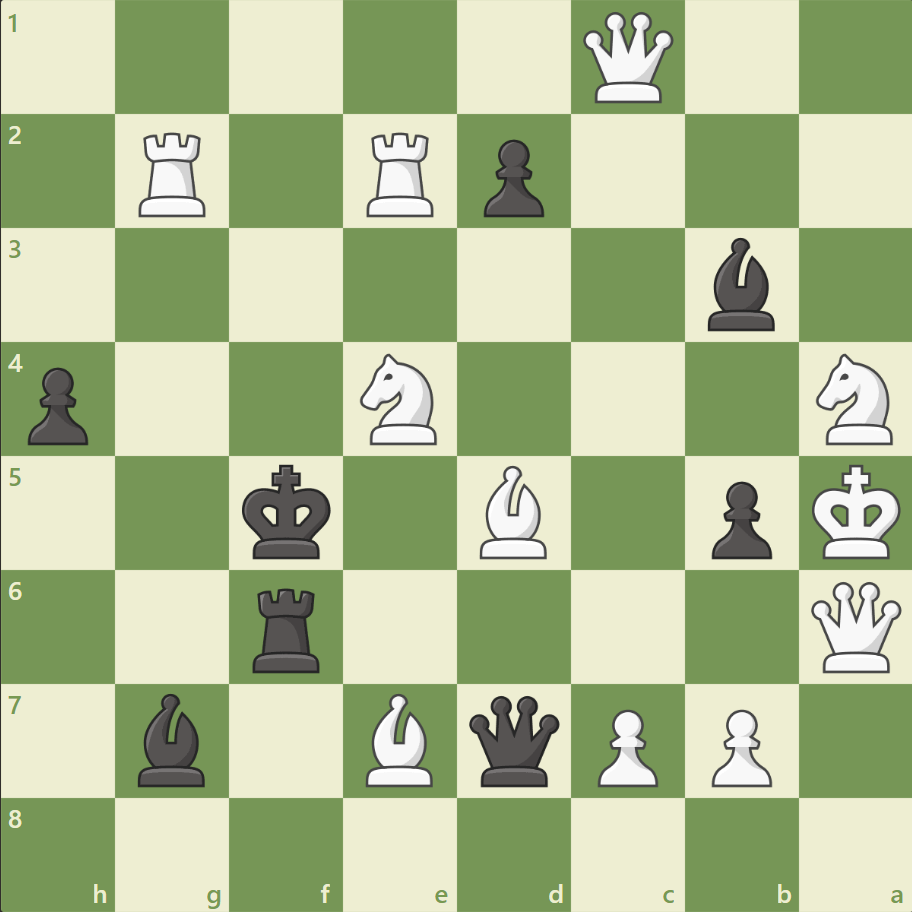B: (358, 687, 442, 790), (471, 460, 555, 563)
K: (806, 458, 906, 566)
N: (351, 348, 449, 450), (806, 348, 903, 450)
P: (701, 700, 776, 791), (588, 700, 662, 791)
Q: (805, 576, 904, 676), (578, 9, 677, 108)
R: (360, 125, 442, 222), (133, 125, 215, 222)
b: (131, 687, 215, 790), (698, 233, 782, 336)
k: (238, 458, 338, 566)
p: (701, 473, 776, 564), (20, 359, 95, 450), (474, 132, 549, 223)
q: (464, 690, 563, 789)
r: (246, 579, 329, 676)
